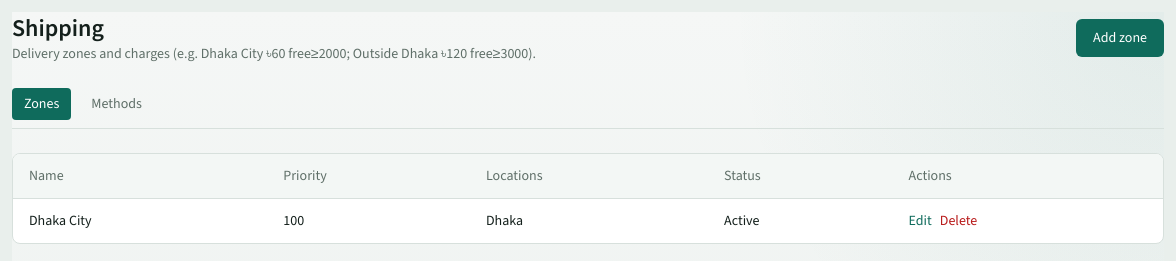
Test: Shipping dashboard › lists zones and methods with zone binding details
The image size is (1176, 261).
Expected: the text "Dhaka City" is shown, [13,198,267,243]
Expected: the text "100" is shown, [267,198,470,243]
Click the button "Methods" at x=117, y=104, box [79,88,154,120]
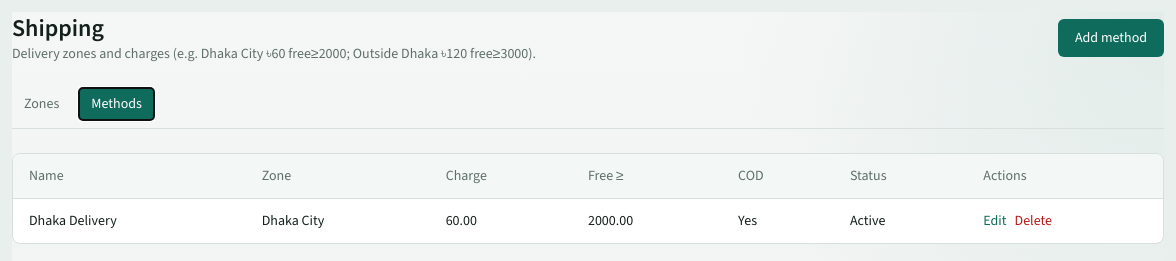
Now the text "Dhaka Delivery" is shown, box [13,198,246,243]
Now the text "60.00" is shown, box [430,198,572,243]
Now the text "2000.00" is shown, box [572,198,722,243]
